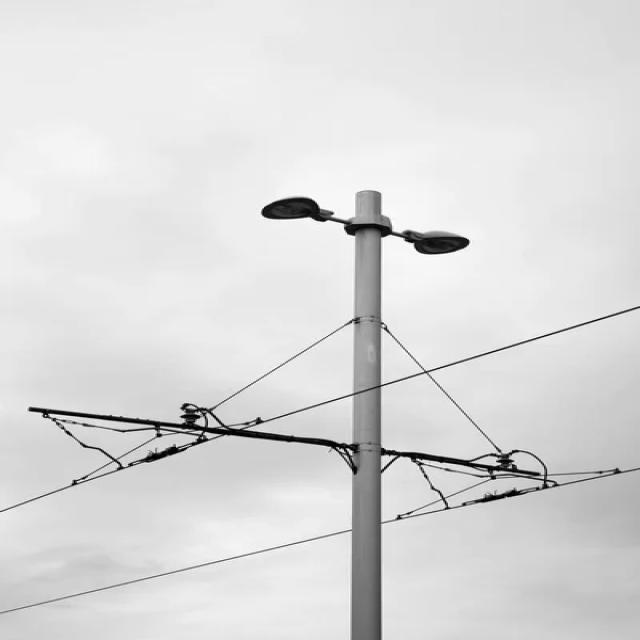Pole: (352, 191, 389, 639)
